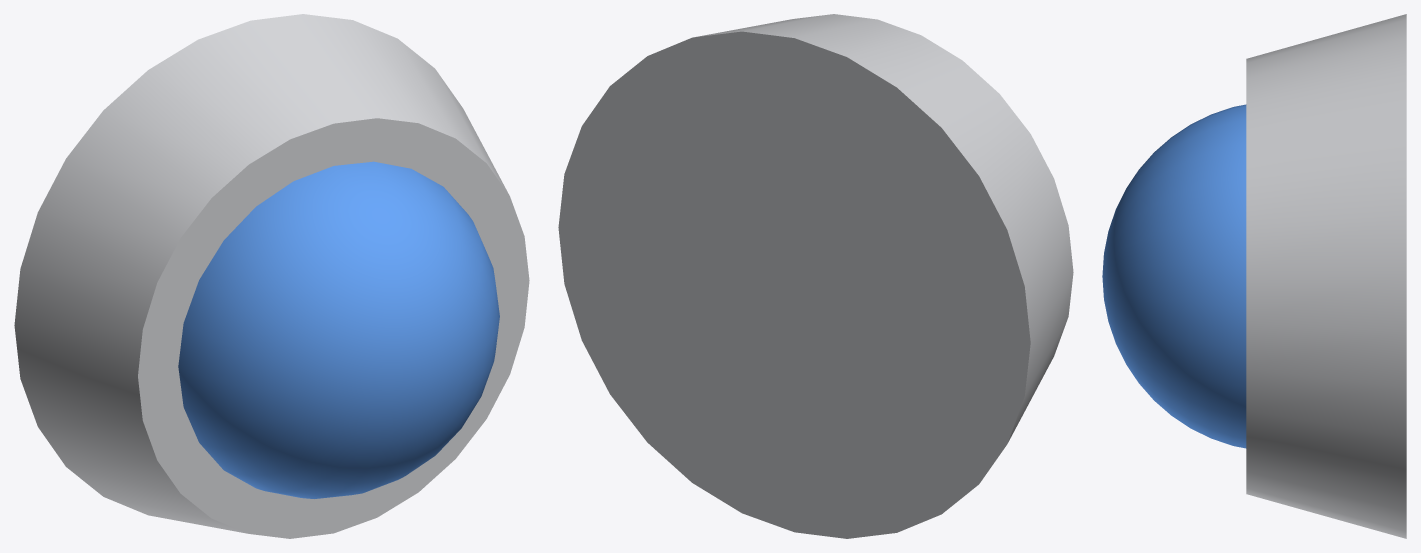
The model's file is amp-led.gltf.
3 views of the same model, side by side, from view 1: azimuth 30°, elevation 25°; view 2: azimuth 150°, elevation 25°; view 3: azimuth 270°, elevation 25° (orthographic). The views are drawn at different scales.
Parts seen in each view (by area): view 1: LedBezel, LedLens; view 2: LedBezel; view 3: LedBezel, LedLens.
Boxes of the visible parts, x1,y1,x2,y2 form: LedBezel: (14, 14, 529, 538); LedLens: (178, 161, 499, 498); LedBezel: (558, 14, 1073, 538); LedBezel: (1246, 14, 1406, 538); LedLens: (1102, 104, 1246, 448).
Size of the model in its own units: 0.0164 by 0.0164 by 0.0095.
